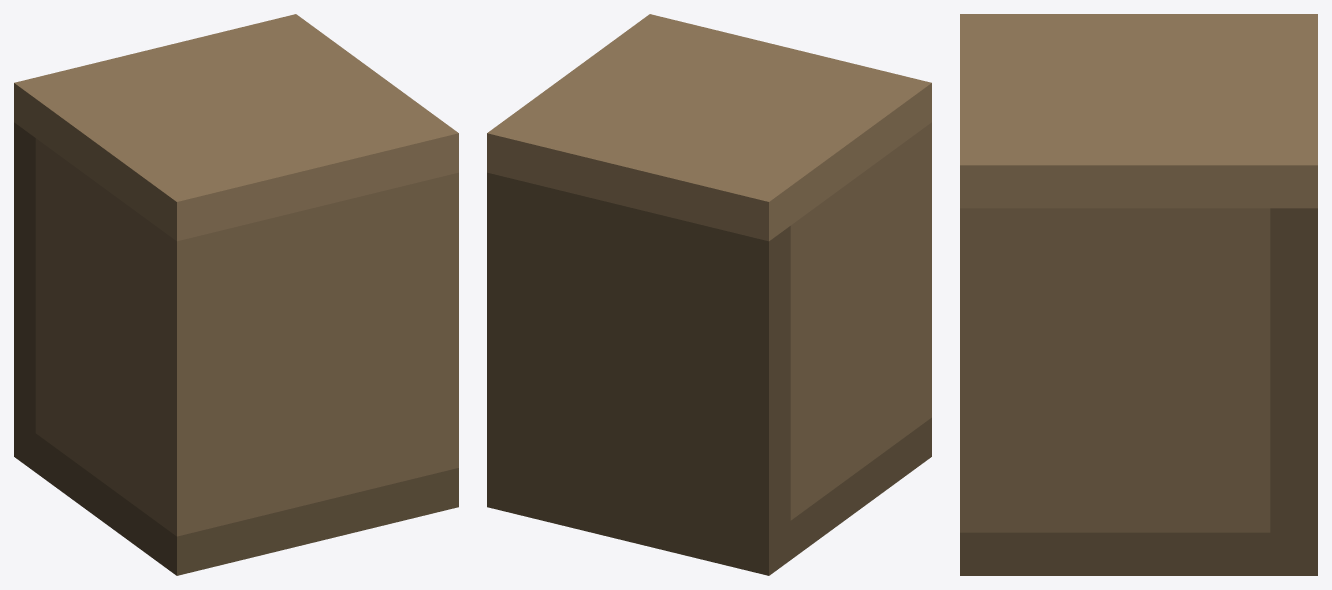
File: estante_pan_roble_01.glb
3 renders of one model, left to right at view 1: azimuth 30°, elevation 25°; view 2: azimuth 150°, elevation 25°; view 3: azimuth 270°, elevation 25°, orthographic. The views are drawn at different scales.
Visible parts, largest first — view 1: estante_pan_roble; view 2: estante_pan_roble; view 3: estante_pan_roble.
Part boxes in pixels (box(x1,y1,x2,y2)): estante_pan_roble: box(14, 14, 458, 575); estante_pan_roble: box(487, 14, 931, 575); estante_pan_roble: box(960, 14, 1317, 575).
Bounding box in the file's own units: 1 × 1.27 × 1.
